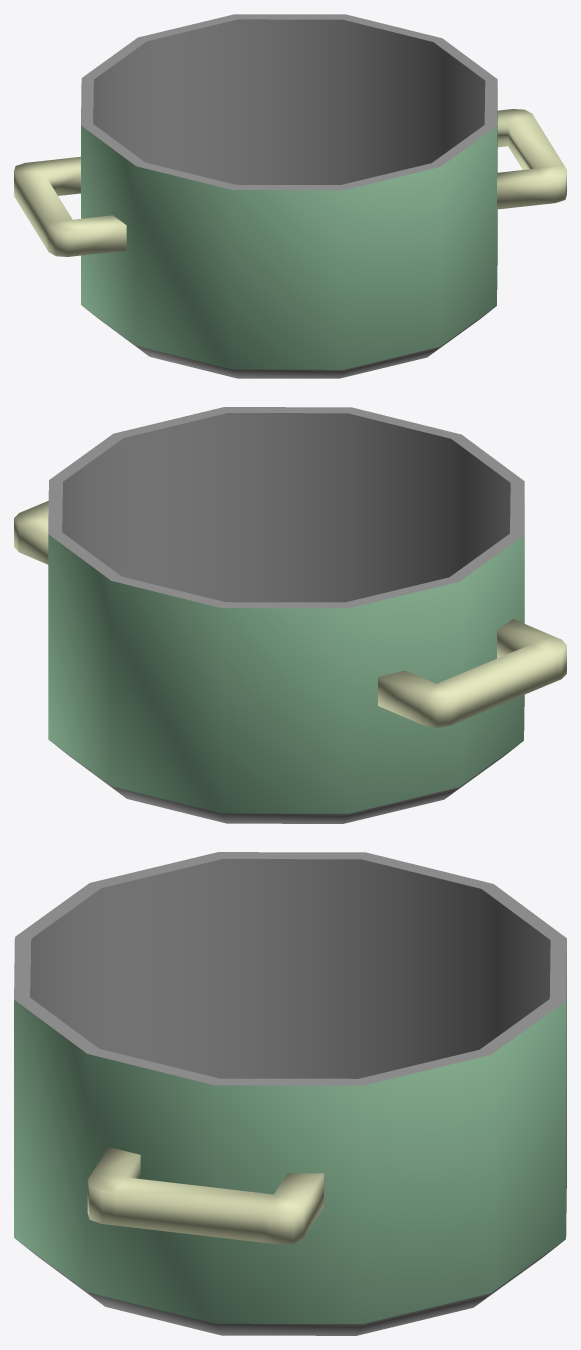
Rendered from K_Pot.glb.
3 views of the same model, one above another, from view 1: azimuth 30°, elevation 25°; view 2: azimuth 150°, elevation 25°; view 3: azimuth 270°, elevation 25° (orthographic). The views are drawn at different scales.
Visible parts, largest first — view 1: Kitchen_Pot; view 2: Kitchen_Pot; view 3: Kitchen_Pot.
Part boxes in pixels (x1,y1,x2,y2): Kitchen_Pot: (14,14,566,378); Kitchen_Pot: (14,407,566,823); Kitchen_Pot: (14,852,566,1335).
Bounding box in the file's own units: 0.5676 × 0.2223 × 0.4277.
